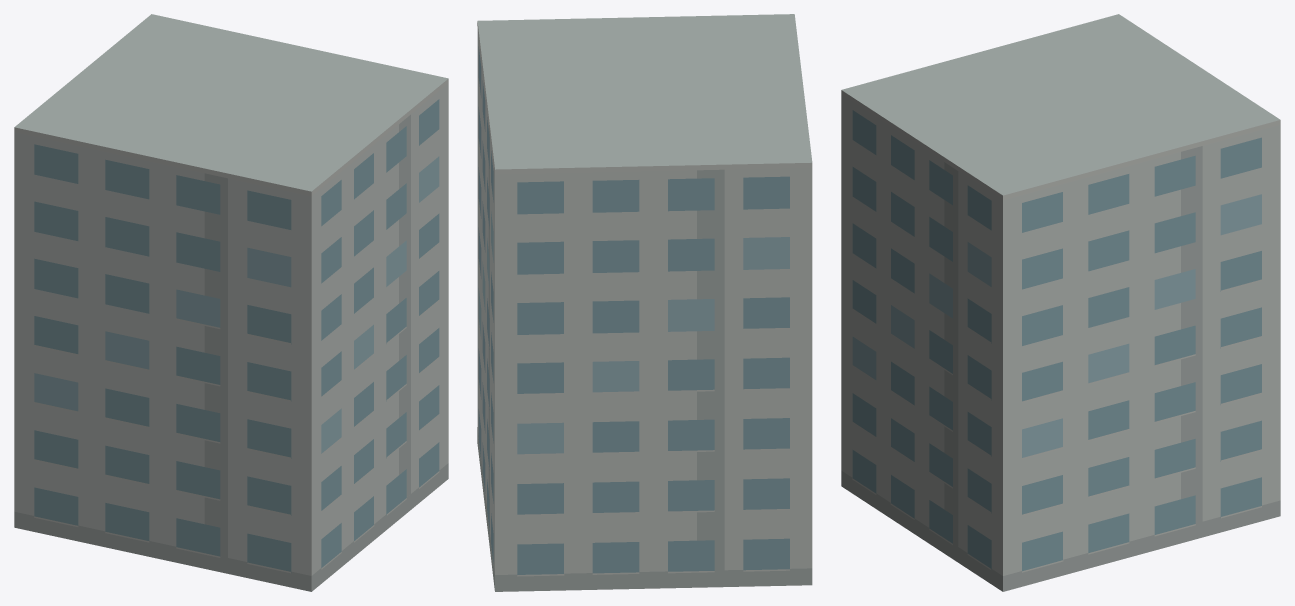
Rendered from residential-e3805167-adc2-4e03-a7b2-57df62b2a071.glb.
3 renders of one model, left to right at view 1: azimuth 30°, elevation 25°; view 2: azimuth 150°, elevation 25°; view 3: azimuth 270°, elevation 25°, orthographic. The views are drawn at different scales.
Parts seen in each view (by area): view 1: residential-e3805167-adc2-4e03-a7b2-57df62b2a071.tmp; view 2: residential-e3805167-adc2-4e03-a7b2-57df62b2a071.tmp; view 3: residential-e3805167-adc2-4e03-a7b2-57df62b2a071.tmp.
Boxes of the visible parts, x1,y1,x2,y2 form: residential-e3805167-adc2-4e03-a7b2-57df62b2a071.tmp: (14, 14, 448, 591); residential-e3805167-adc2-4e03-a7b2-57df62b2a071.tmp: (477, 14, 812, 591); residential-e3805167-adc2-4e03-a7b2-57df62b2a071.tmp: (841, 14, 1280, 591).
Size of the model in its own units: 19.91 by 20.25 by 20.36.
